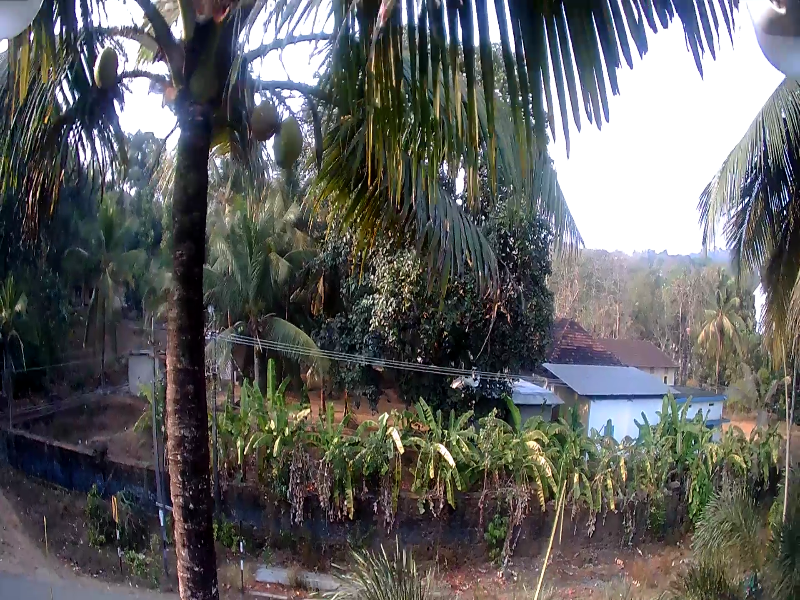coconut: (94, 42, 118, 89), (275, 115, 298, 163), (253, 95, 269, 137)
